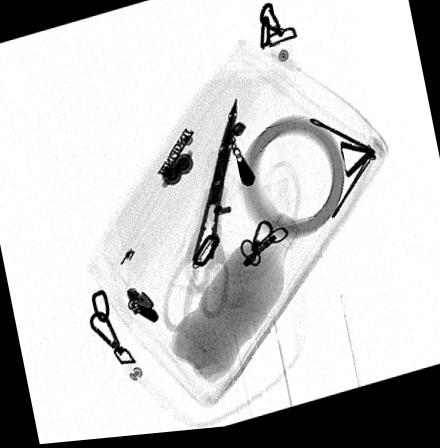Scissors: (161, 103, 237, 338)
